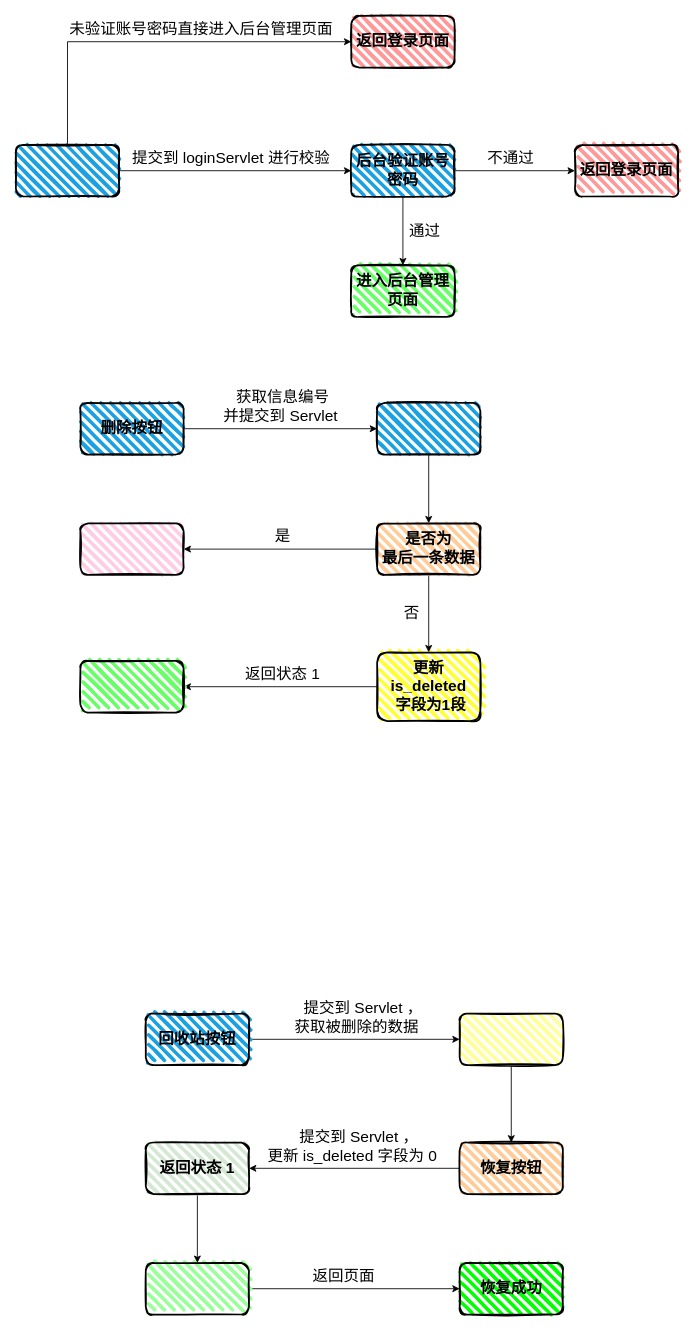
Some shapes in this 693 by 1330 pixel diagram are drawn without their labels. The shapes that lost their labels are listed below. From the top down, each one's centre as x and y in pixels, then its label:
the point at 67,170: 登录表单
the point at 428,428: 进行软删除
the point at 131,548: 不允许删除
the point at 131,686: 删除成功
the point at 510,1039: 显示 被删除的数据
the point at 196,1288: 重新查询数据
